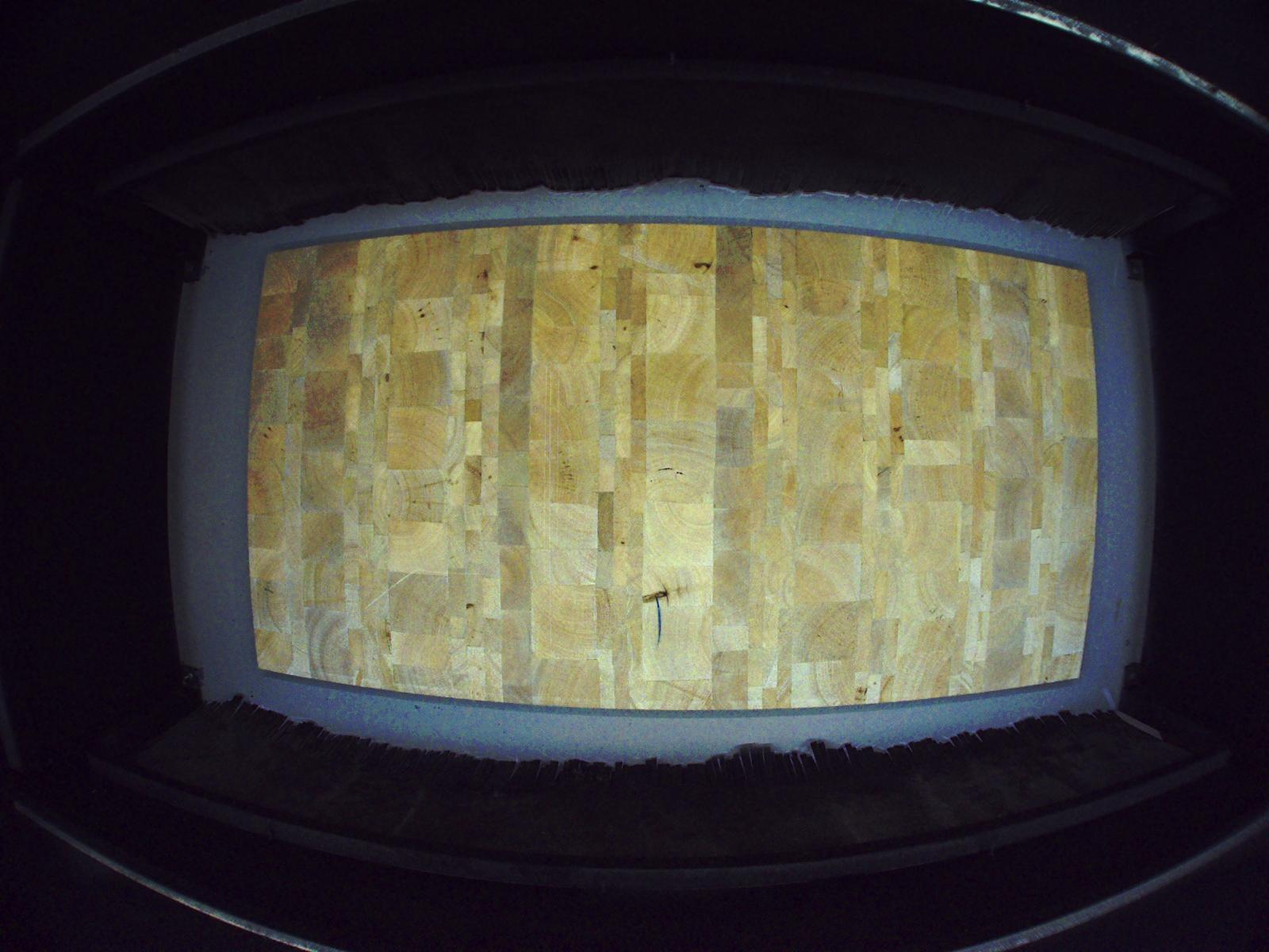sheck_ecuatoriano: (642, 570, 671, 609)
